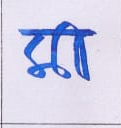i_matra: (61, 22, 93, 80)
